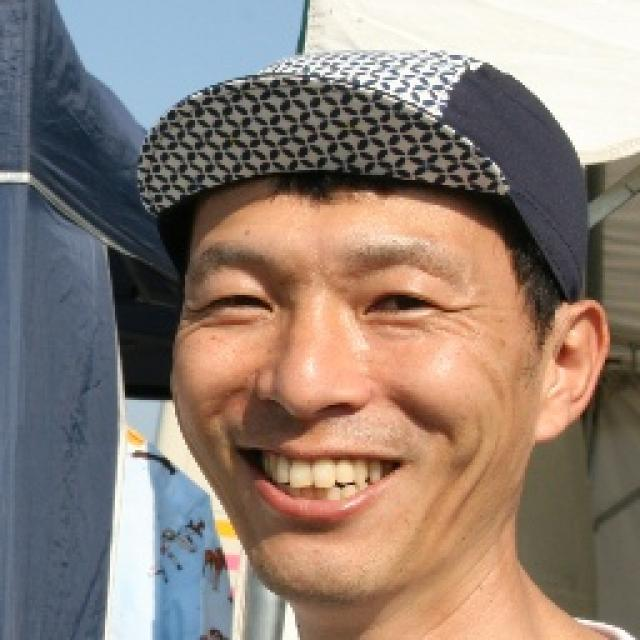earlobe: (531, 293, 609, 447)
